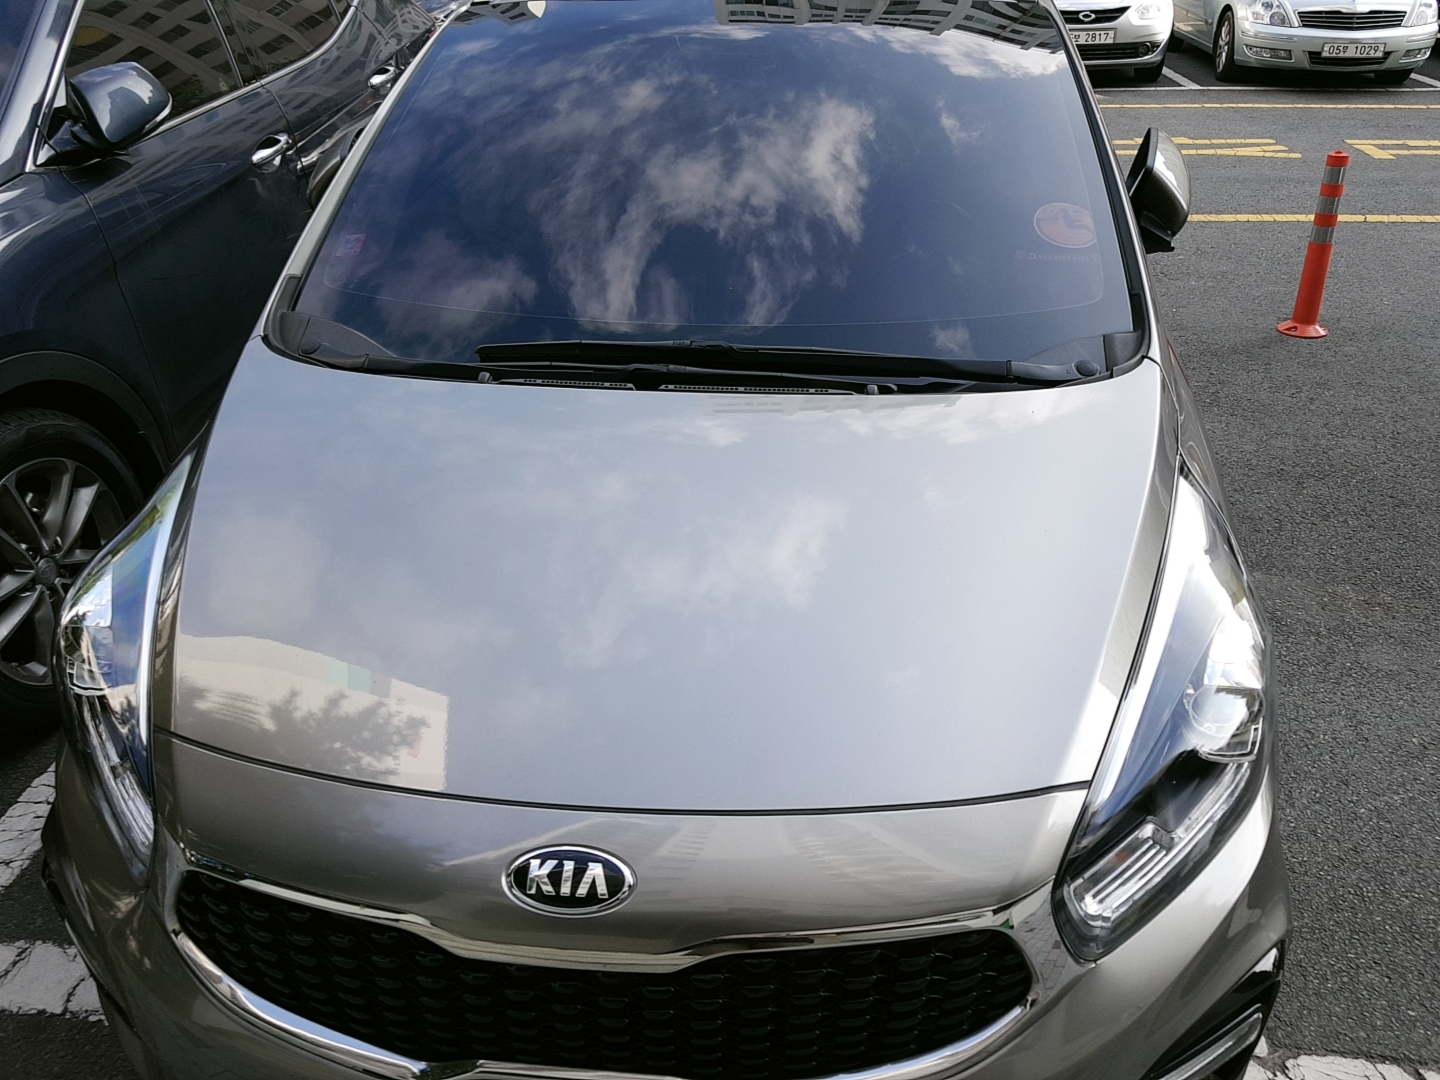disabled_parking: (1034, 196, 1102, 252)
